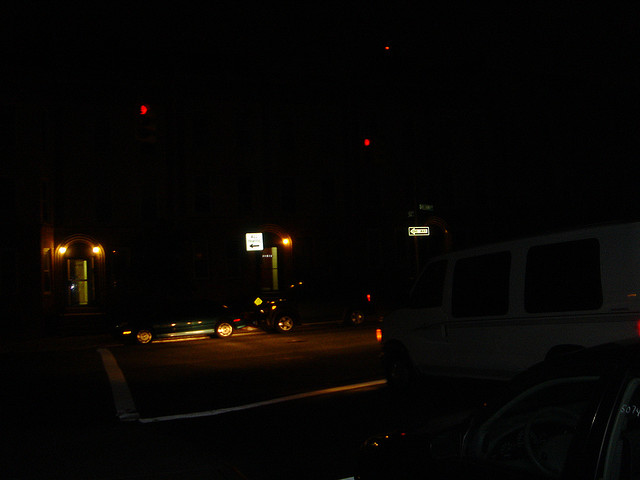car: (255, 271, 383, 342)
